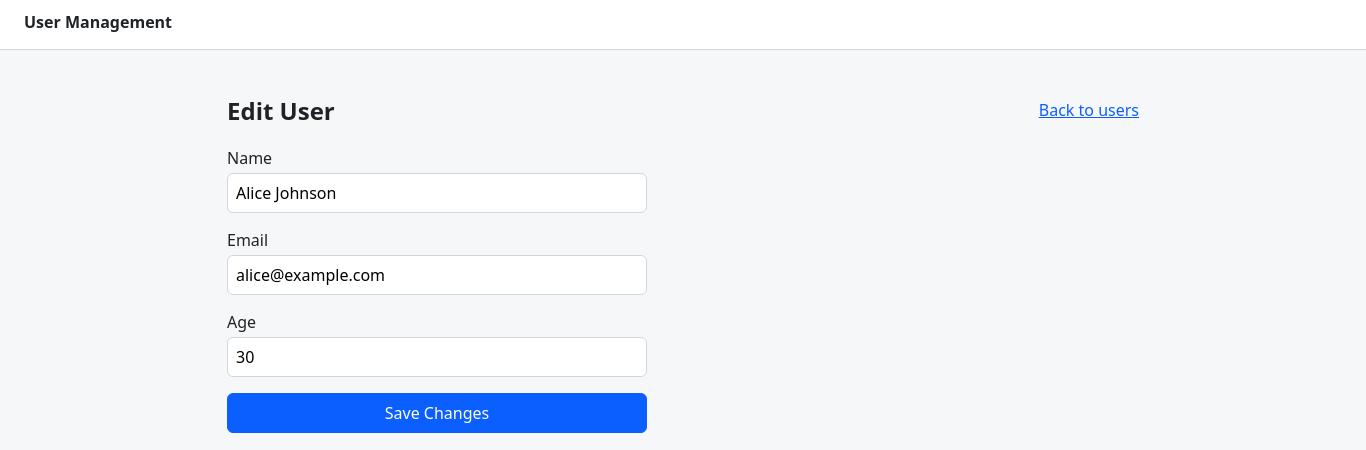
Scenario: Edit user page › disables the submit button while saving
expect the field labelled "Name" is shown: met, box [227, 173, 647, 213]
Click the button "Save Changes": (437, 413) [227, 393, 647, 433]
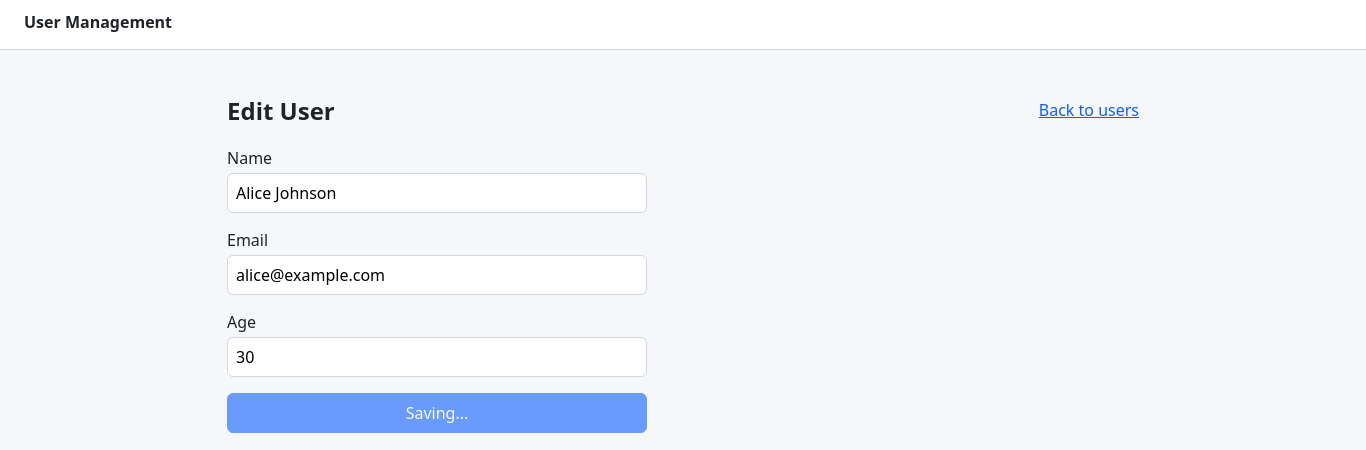
expect the button "Saving..." is disabled: met, box [227, 393, 647, 433]
